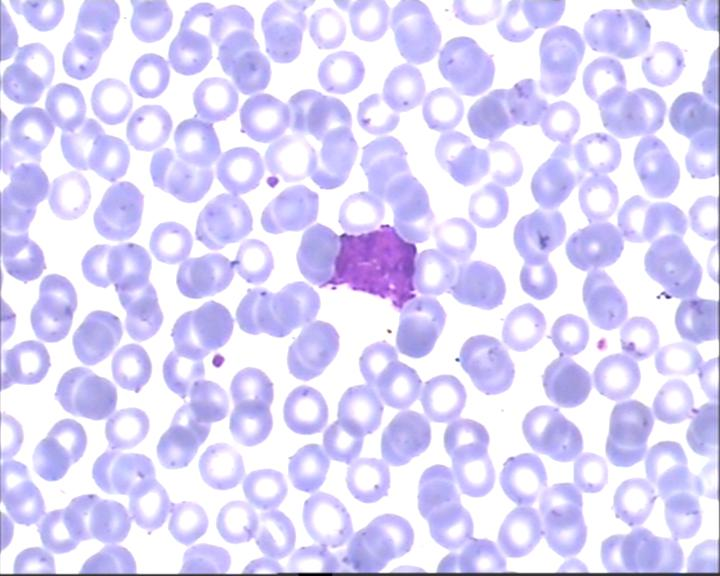baso: (316, 218, 422, 314)
